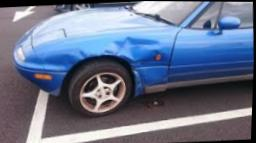Fender: (48, 24, 175, 96)
